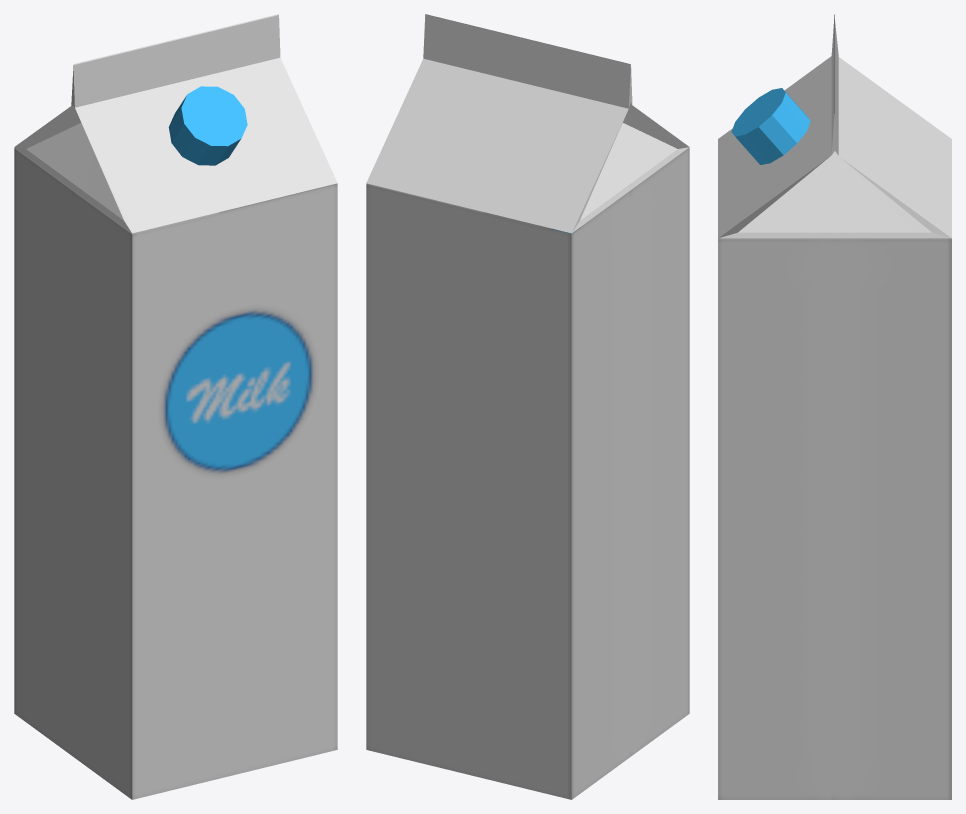
The model's file is milk.glb.
3 renders of one model, left to right at view 1: azimuth 30°, elevation 25°; view 2: azimuth 150°, elevation 25°; view 3: azimuth 270°, elevation 25°, orthographic.
Visible parts, largest first — view 1: Simple Milk Box; view 2: Simple Milk Box; view 3: Simple Milk Box.
Part boxes in pixels (bbox=[...]): Simple Milk Box: bbox=[14, 14, 337, 799]; Simple Milk Box: bbox=[366, 14, 689, 799]; Simple Milk Box: bbox=[718, 14, 951, 799].
Size of the model in its own units: 0.0793 by 0.2552 by 0.0788.
Materials: 1 (1 with a texture image).
